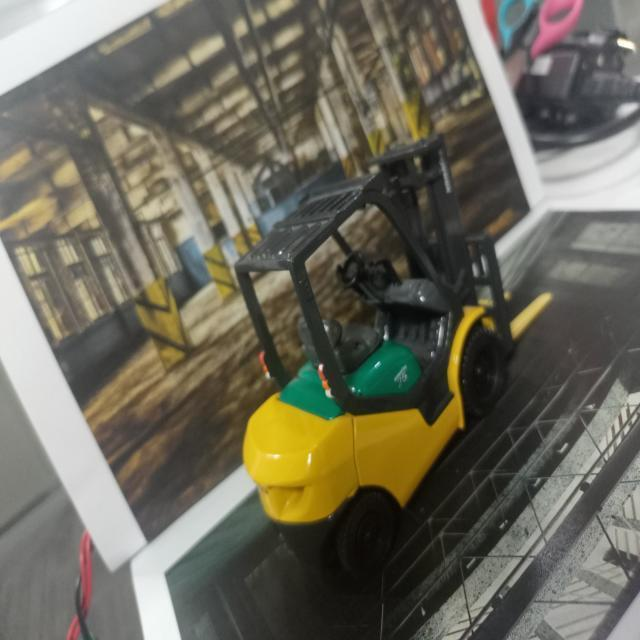forklift: (222, 148, 511, 581)
